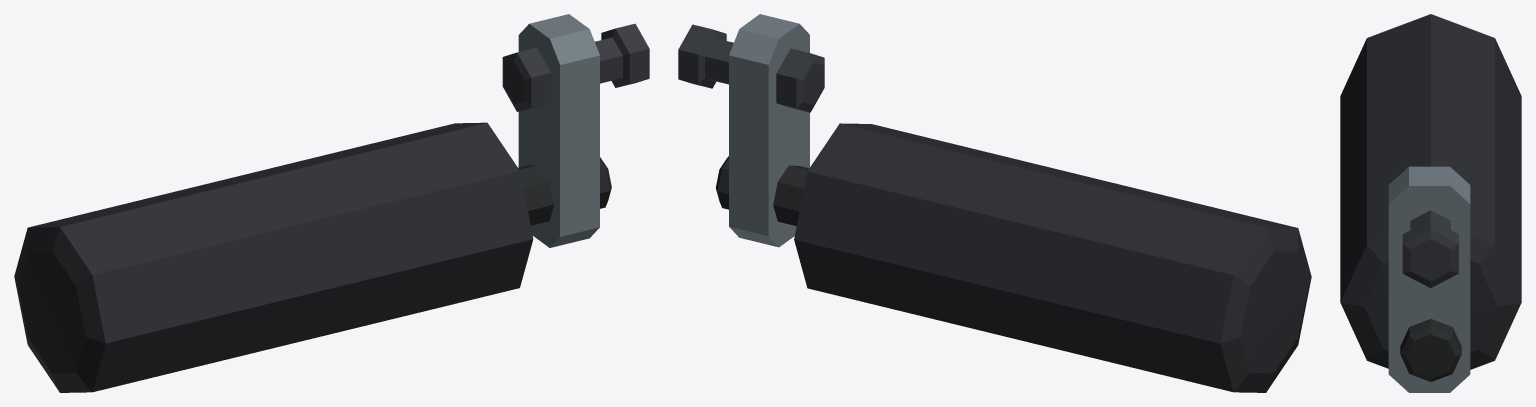
Rendered from SM_Prop_Gym_Leg_Curl_01_Leg_Padding_02.obj.
The picture shows the model from 3 angles, left to right: view 1: azimuth 30°, elevation 25°; view 2: azimuth 150°, elevation 25°; view 3: azimuth 270°, elevation 25°; orthographic projection.
Parts seen in each view (by area): view 1: SM_Prop_Gym_Leg_Curl_01_Leg_Padding_02_0; view 2: SM_Prop_Gym_Leg_Curl_01_Leg_Padding_02_0; view 3: SM_Prop_Gym_Leg_Curl_01_Leg_Padding_02_0.
Boxes of the visible parts, x1,y1,x2,y2 form: SM_Prop_Gym_Leg_Curl_01_Leg_Padding_02_0: (14, 14, 649, 392); SM_Prop_Gym_Leg_Curl_01_Leg_Padding_02_0: (678, 14, 1311, 392); SM_Prop_Gym_Leg_Curl_01_Leg_Padding_02_0: (1340, 14, 1521, 392).
Bounding box in the file's own units: 0.8619 × 0.3439 × 0.2326.
Materials: 1 (1 with a texture image).
